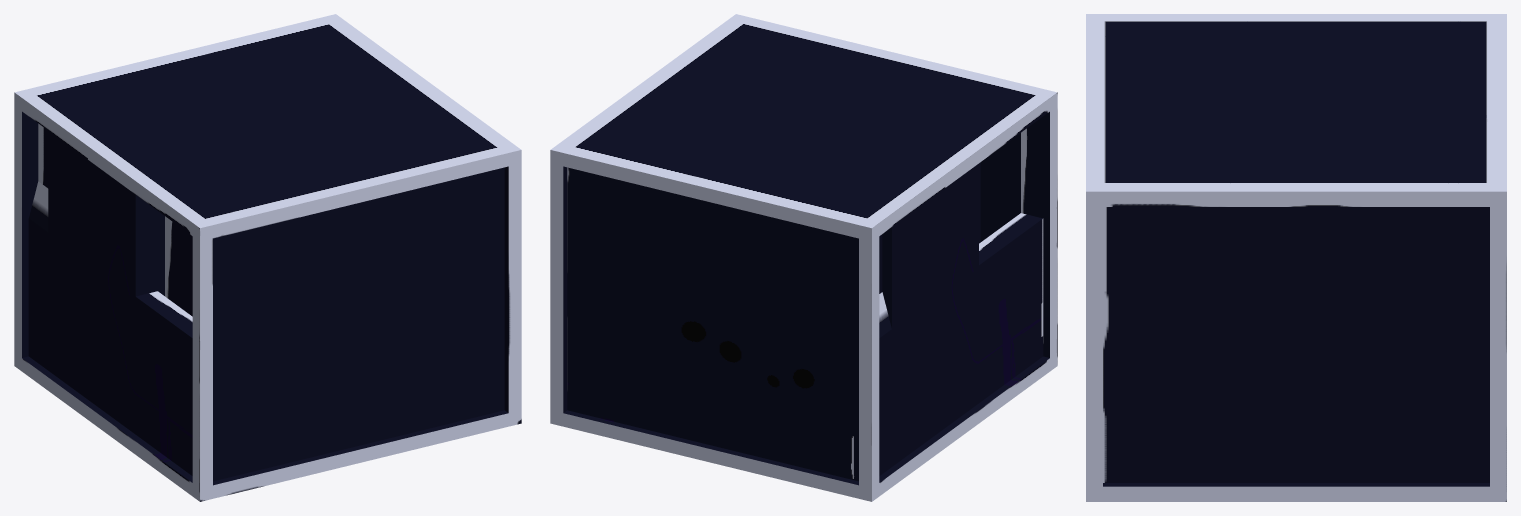
The model's file is ThrowingPlatform.fbx.
3 renders of one model, left to right at view 1: azimuth 30°, elevation 25°; view 2: azimuth 150°, elevation 25°; view 3: azimuth 270°, elevation 25°, orthographic. The views are drawn at different scales.
Parts seen in each view (by area): view 1: ThrowingPlatform; view 2: ThrowingPlatform; view 3: ThrowingPlatform.
Part boxes in pixels (x1,y1,x2,y2): ThrowingPlatform: (14, 14, 521, 501); ThrowingPlatform: (550, 14, 1057, 501); ThrowingPlatform: (1086, 14, 1506, 501).
Size of the model in its own units: 1180 by 960 by 1180.
